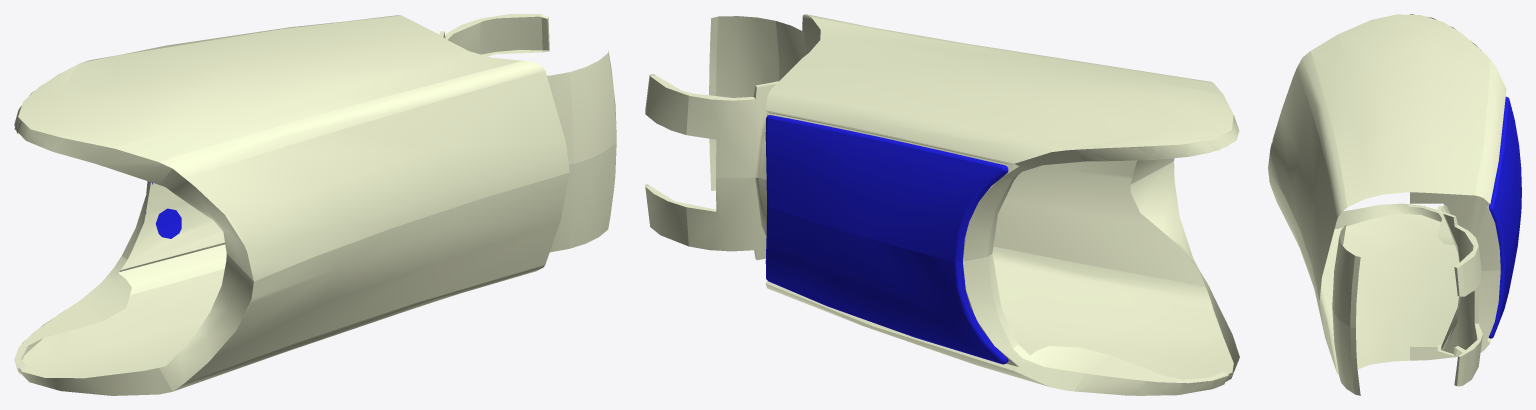
The model's file is finger_proximal.dae.
3 views of the same model, side by side, from view 1: azimuth 30°, elevation 25°; view 2: azimuth 150°, elevation 25°; view 3: azimuth 270°, elevation 25° (orthographic). The views are drawn at different scales.
Visible parts, largest first — view 1: ShapeIndexedFaceS_010; view 2: ShapeIndexedFaceS_010; view 3: ShapeIndexedFaceS_010.
Boxes of the visible parts, <box> form: ShapeIndexedFaceS_010: <box>14,14,616,395</box>; ShapeIndexedFaceS_010: <box>645,14,1239,395</box>; ShapeIndexedFaceS_010: <box>1268,14,1521,395</box>.
Bounding box in the file's own units: 0.083 × 0.0411 × 0.0368.
